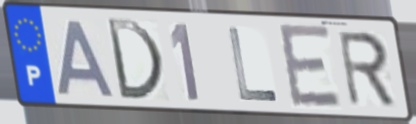1: (168, 21, 201, 104)
A: (56, 17, 120, 100)
D: (103, 16, 167, 104)
E: (275, 21, 345, 111)
L: (225, 25, 281, 104)
R: (334, 29, 399, 109)
